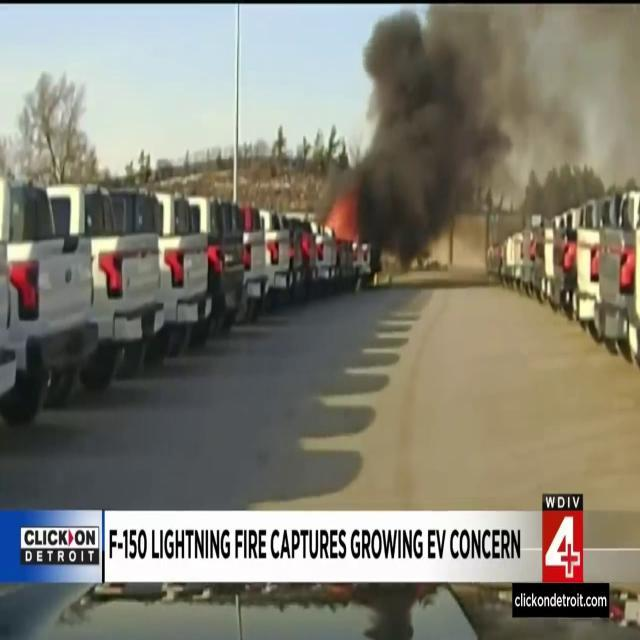Fire: (320, 193, 360, 254)
Smoke: (348, 3, 523, 257)
